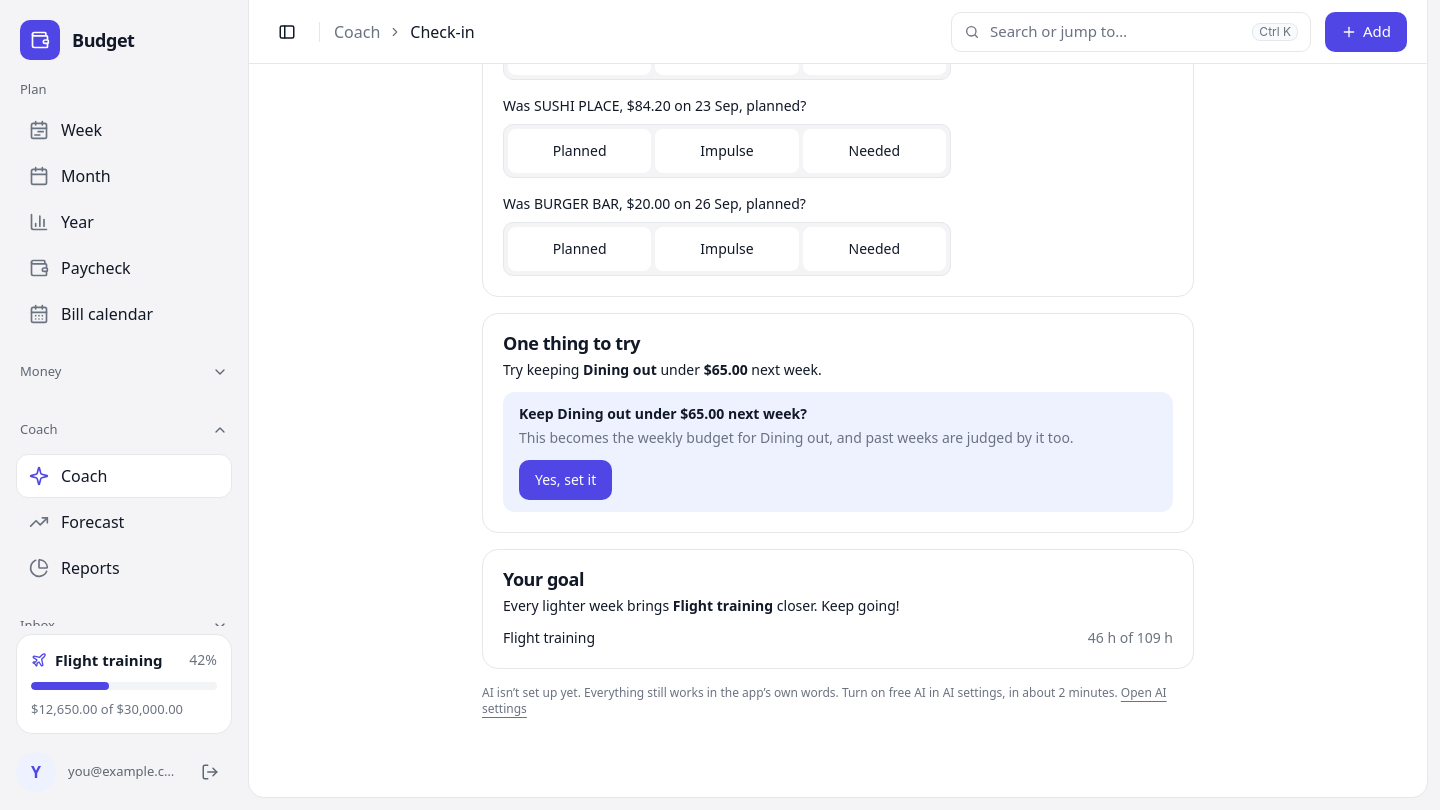
Test: the Sunday check-in › writes the weekly limit only when its button is tapped, through the Week’s save
(page scrolled)
Expected: the element showing "Keep Dining out under $65.00 next week?" is shown, [519, 404, 807, 423]
Expected: the text "This becomes the weekly budget for Dining out, and past weeks are judged by it too." is shown, [519, 428, 1074, 448]
Click the button "Yes, set it".
click(566, 480)  # box [519, 460, 612, 500]
(page scrolled)
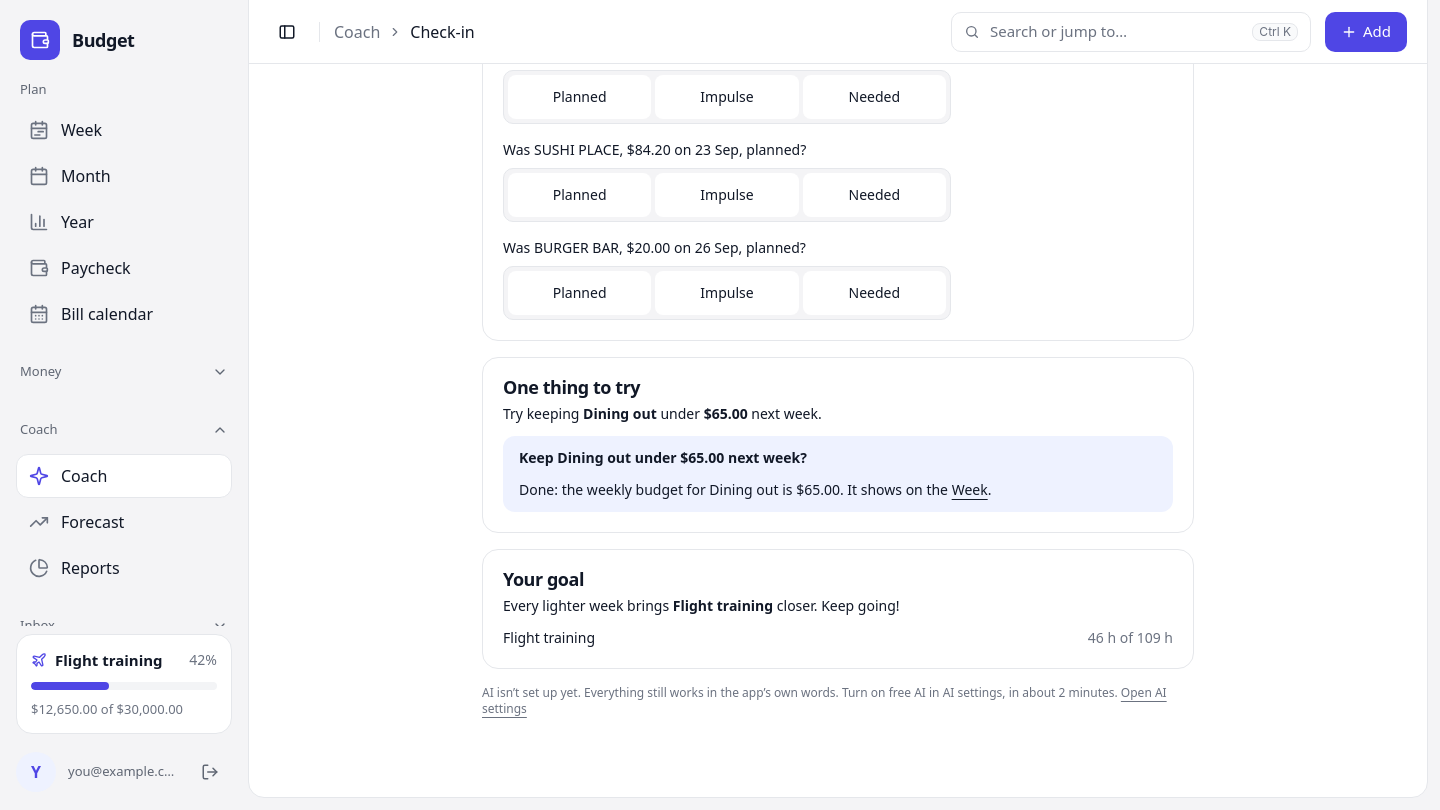
Expected: the element showing "Keep Dining out under $65.00 next week?" is shown, [519, 448, 807, 468]
Now the message "Done: the weekly budget for Dining out is $65.00. It shows on the Week ." is shown, box [519, 480, 991, 500]
